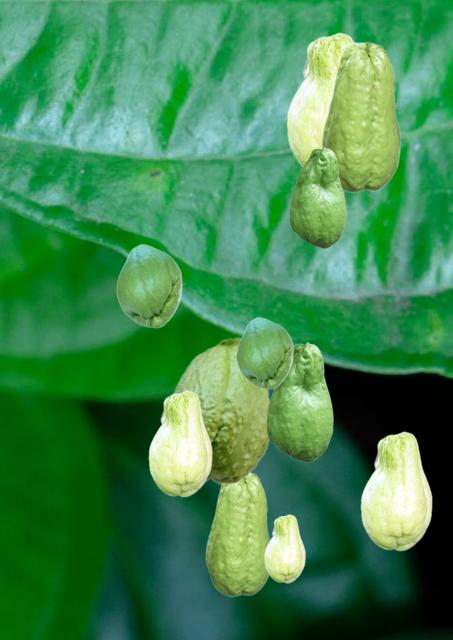sayote: (173, 336, 269, 484), (321, 41, 400, 192), (286, 32, 353, 167), (360, 431, 431, 550), (205, 472, 269, 596), (266, 342, 332, 461), (148, 390, 211, 496), (289, 147, 345, 247), (116, 244, 181, 327), (236, 317, 292, 388), (264, 514, 304, 582)
